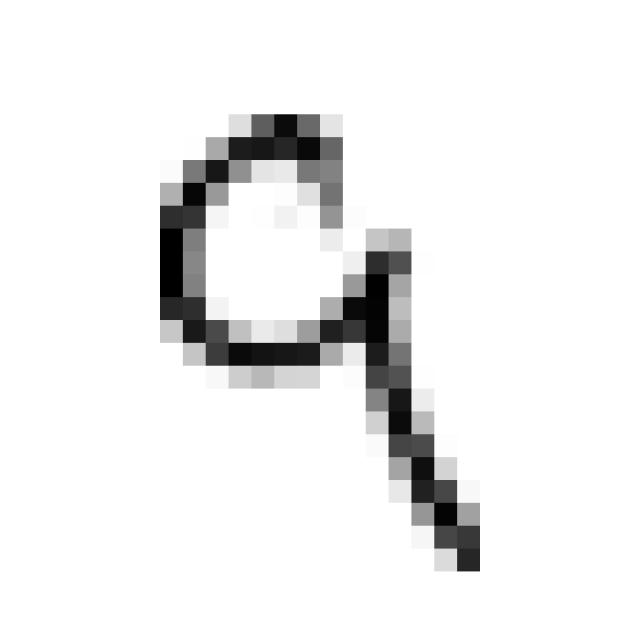9 -nine-: (128, 96, 503, 589)
